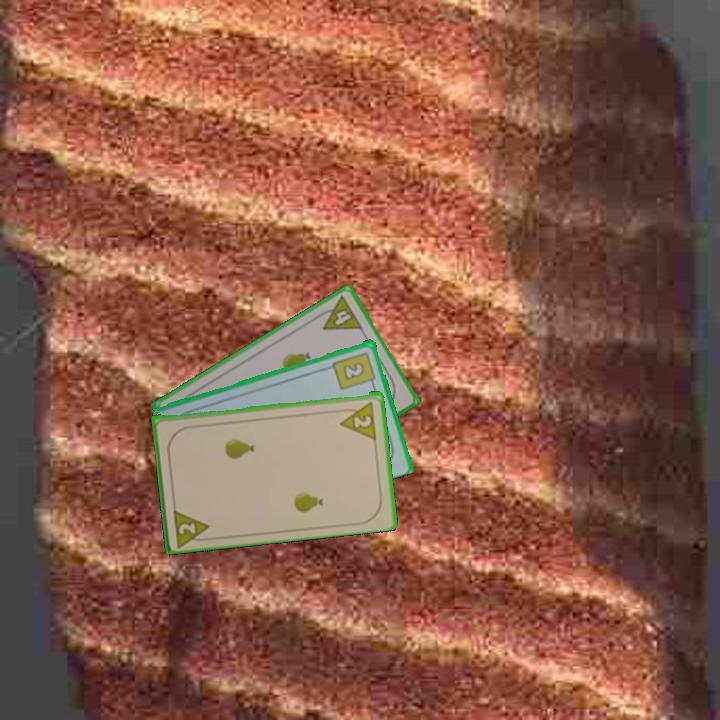2b: (330, 348, 378, 392)
2p: (336, 397, 379, 441), (175, 519, 199, 537)
4p: (312, 292, 365, 333)
